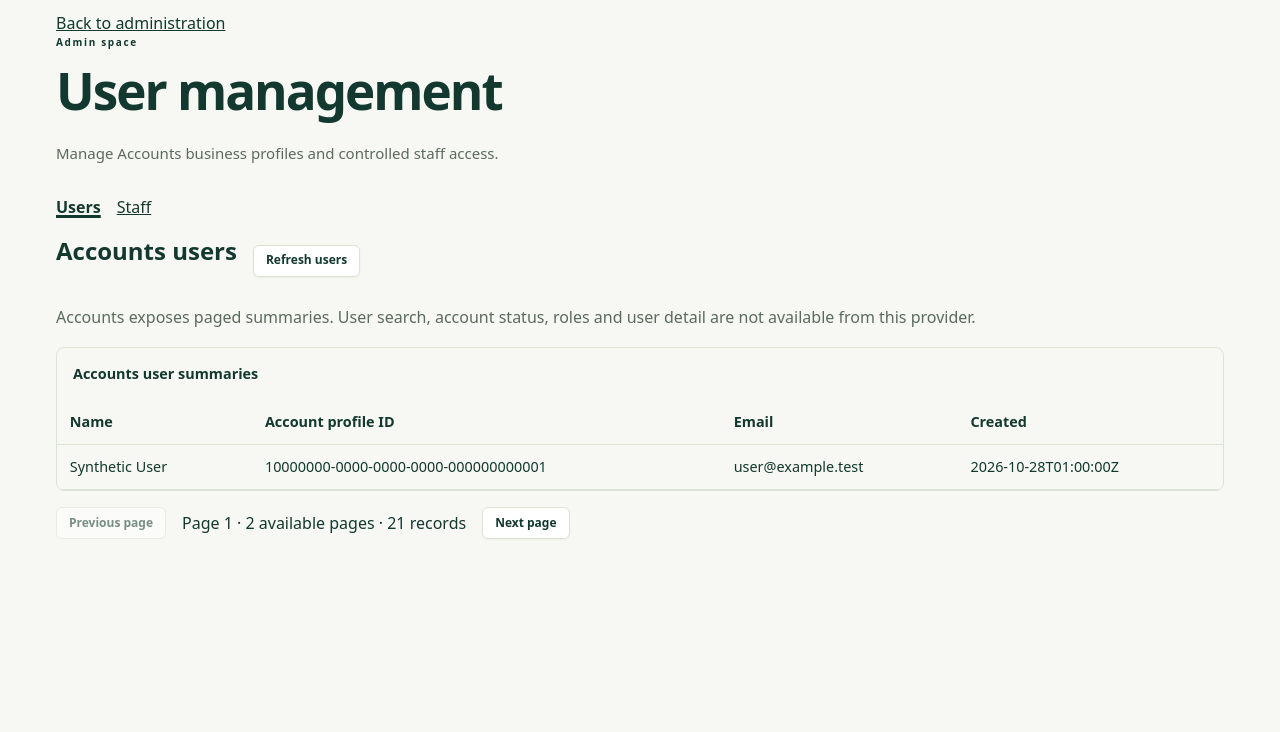
Test case: User and staff reads › can return to page zero when concurrent deletion makes the selected page empty
Click the button "Next page" at [526, 523], box top-left (482, 507), bottom-right (570, 539)
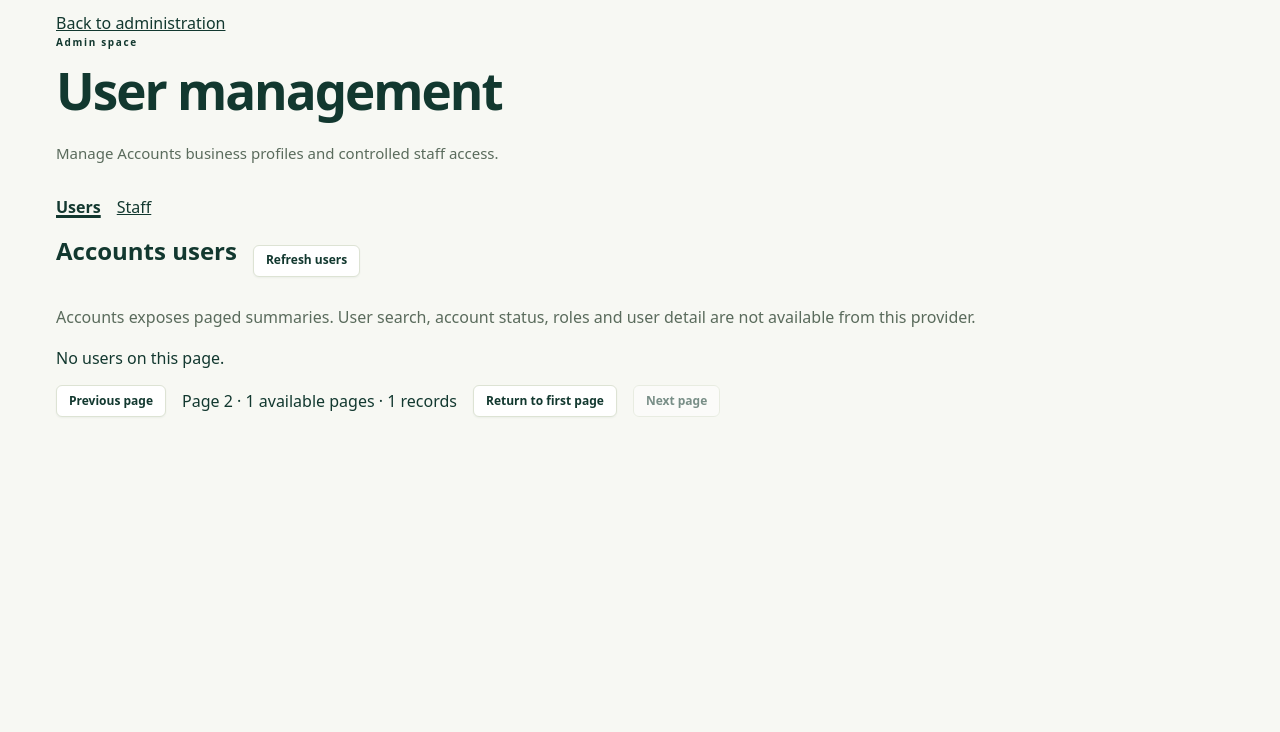
Click the button "Return to first page" at [545, 401], box top-left (473, 385), bottom-right (617, 417)
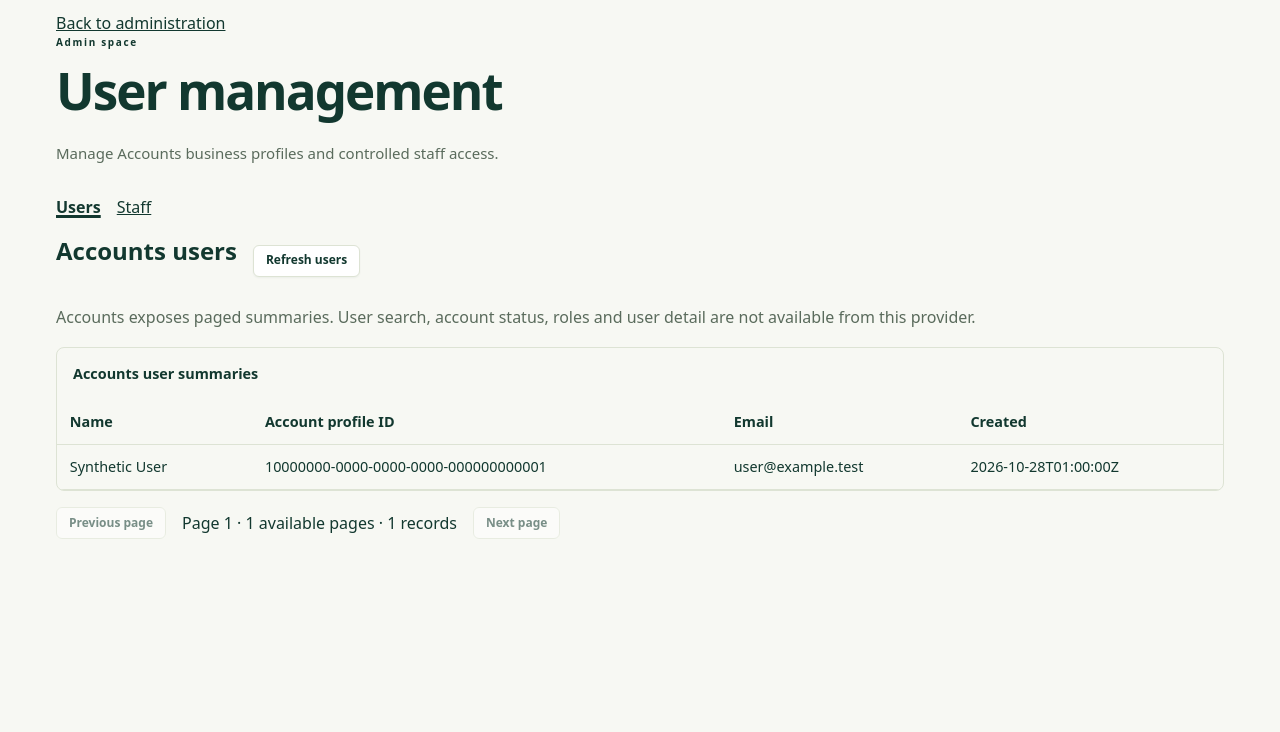
expect the text "Synthetic User" is shown: met, box top-left (57, 444), bottom-right (252, 490)
